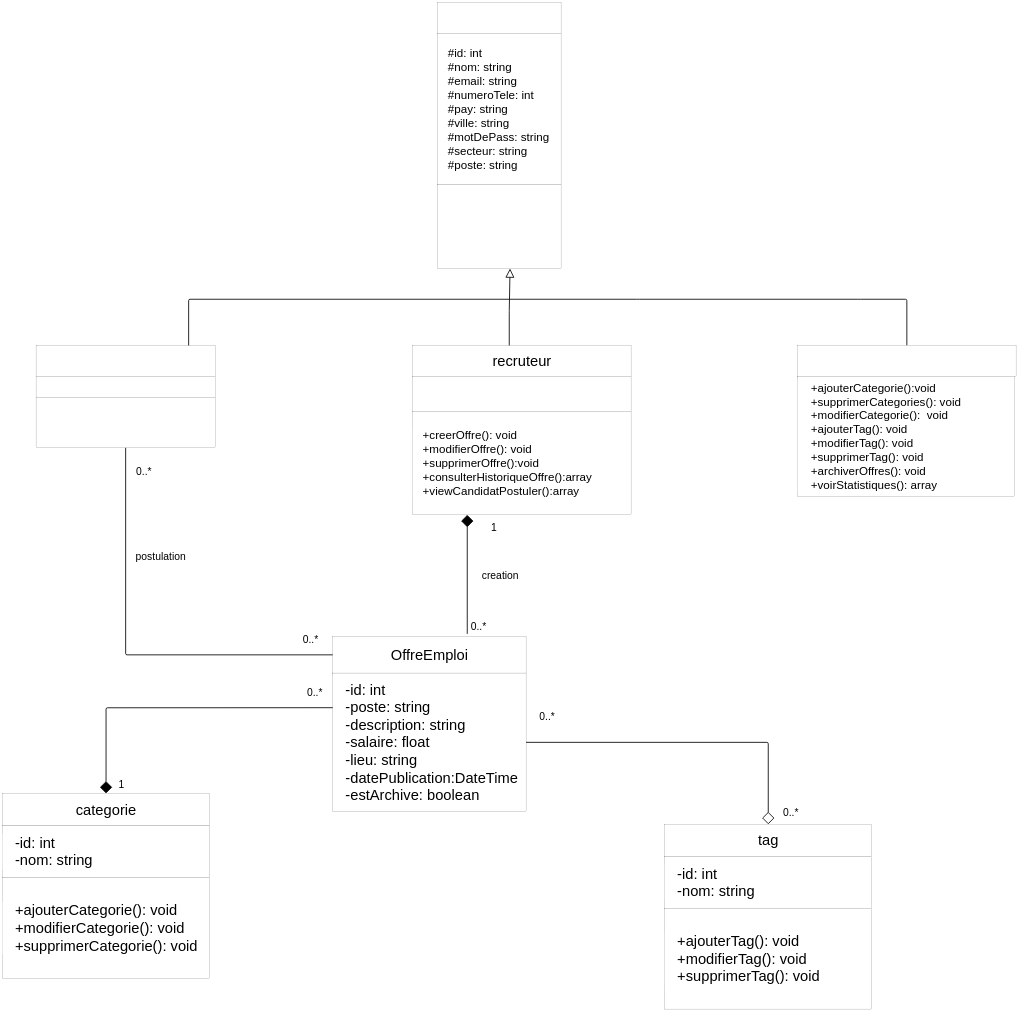
Image size: 1019x1012. Some labels were removed from this diagram. The shapes that lost their labels are listed below. From the top down, each one's centre as x and y in pixels, then its label:
At point (499, 17): "Utilisateur".
At point (499, 226): "+seConnecter(): void +sInscrire(): void +updateProfile(): void".
At point (125, 360): "candidat".
At point (907, 360): "administrateur".
At point (522, 393): "-nomEnteprise: string -companyDescription: string".
At point (125, 422): "+postulerOffre():void +consultationHistorique:array +rechercherOffres():array".
